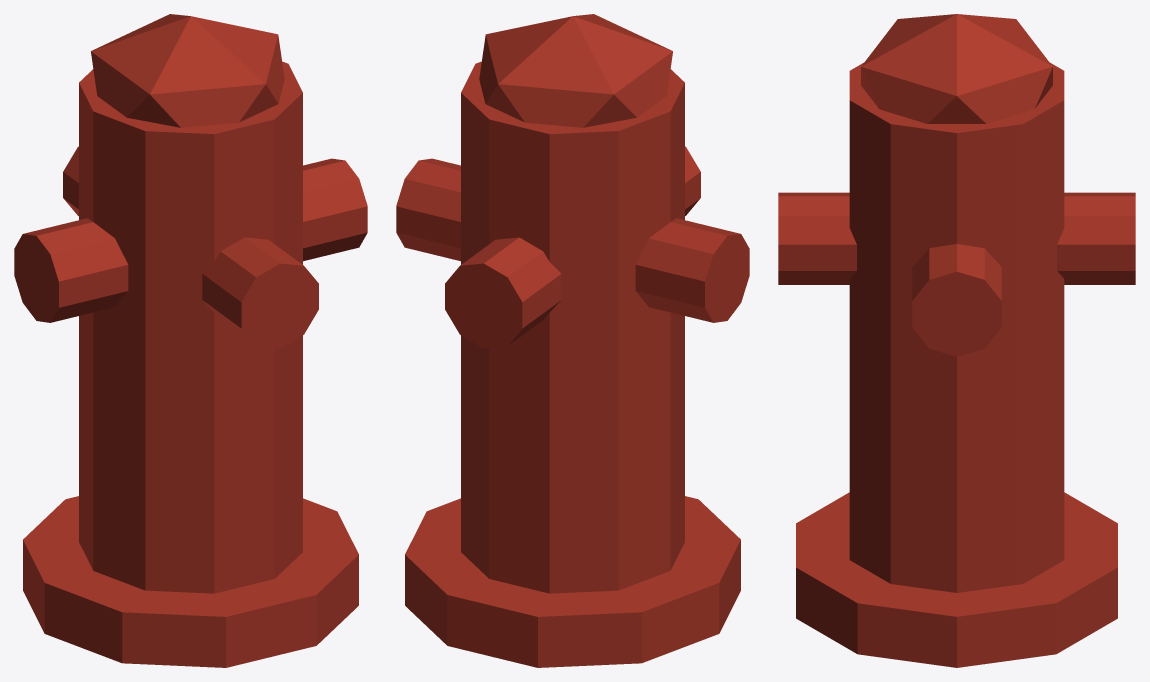
Rendered from cuu_hoa.glb.
The picture shows the model from 3 angles, left to right: view 1: azimuth 30°, elevation 25°; view 2: azimuth 150°, elevation 25°; view 3: azimuth 270°, elevation 25°; orthographic projection.
Parts seen in each view (by area): view 1: cuu_hoa; view 2: cuu_hoa; view 3: cuu_hoa.
Part boxes in pixels (<box>): cuu_hoa: <box>14,14,367,667</box>; cuu_hoa: <box>396,14,749,667</box>; cuu_hoa: <box>778,14,1135,667</box>.
Bounding box in the file's own units: 0.38 × 0.684 × 0.38.
